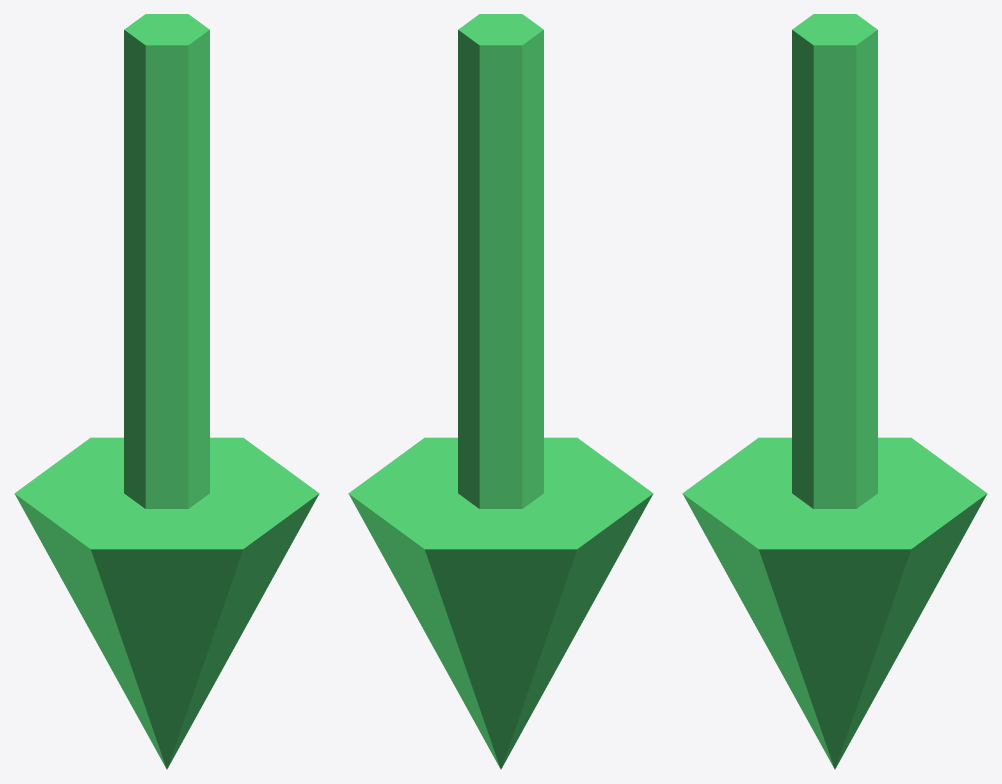
The model's file is Arrow.fbx.
3 renders of one model, left to right at view 1: azimuth 30°, elevation 25°; view 2: azimuth 150°, elevation 25°; view 3: azimuth 270°, elevation 25°, orthographic.
Parts seen in each view (by area): view 1: Cone; view 2: Cone; view 3: Cone.
Boxes of the visible parts, x1,y1,x2,y2 form: Cone: (14, 14, 319, 769); Cone: (348, 14, 653, 769); Cone: (682, 14, 987, 769).
Size of the model in its own units: 173 by 535 by 200.
